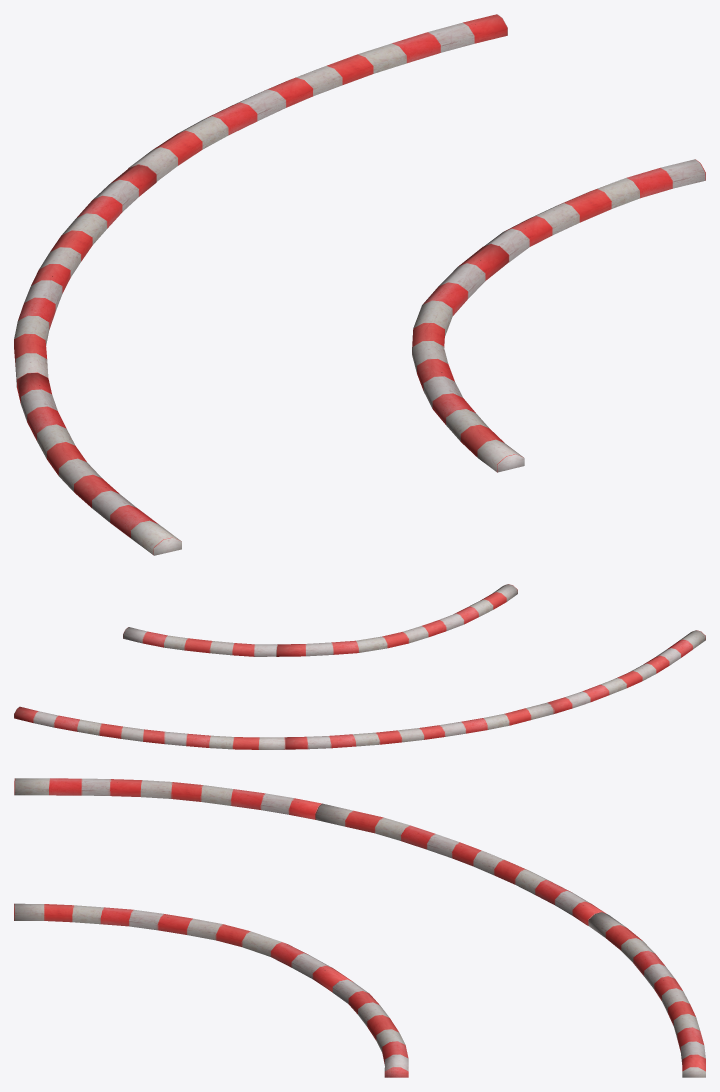
The model's file is crub_track_turnbig_right.fbx.
3 renders of one model, top to bottom at view 1: azimuth 30°, elevation 25°; view 2: azimuth 150°, elevation 25°; view 3: azimuth 270°, elevation 25°, orthographic. The views are drawn at different scales.
Parts seen in each view (by area): view 1: curb_track_straight_002; view 2: curb_track_straight_002; view 3: curb_track_straight_002.
Part boxes in pixels (x1,y1,x2,y2): curb_track_straight_002: (14, 14, 705, 555); curb_track_straight_002: (14, 584, 705, 749); curb_track_straight_002: (14, 778, 705, 1077).
Bounding box in the file's own units: 390 × 6.43 × 390.
